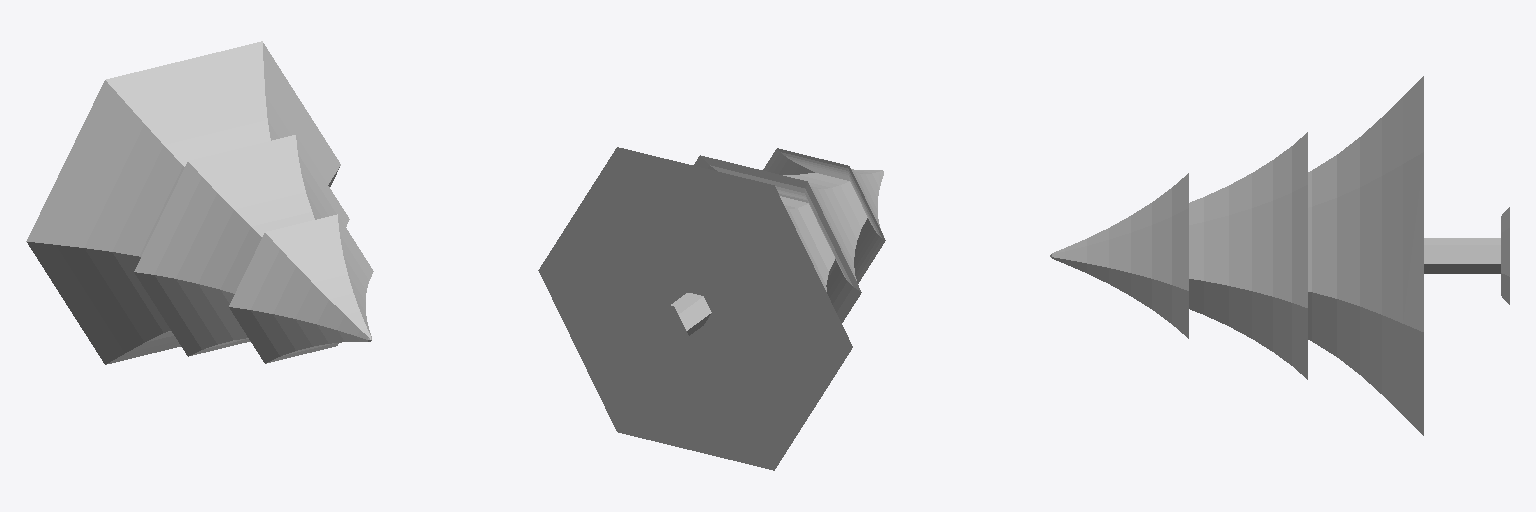
Rendered from Tree_OBJ.obj.
The picture shows the model from 3 angles: view 1: azimuth 30°, elevation 25°; view 2: azimuth 150°, elevation 25°; view 3: azimuth 270°, elevation 25°; orthographic projection.
Visible parts, largest first — view 1: Christmas_Tree; view 2: Christmas_Tree; view 3: Christmas_Tree.
Part boxes in pixels (left/top/right/bottom): Christmas_Tree: left=26, top=41, right=373, bottom=364; Christmas_Tree: left=538, top=147, right=885, bottom=470; Christmas_Tree: left=1050, top=76, right=1509, bottom=435.
Size of the model in its own units: 4.23 by 3.67 by 5.36.